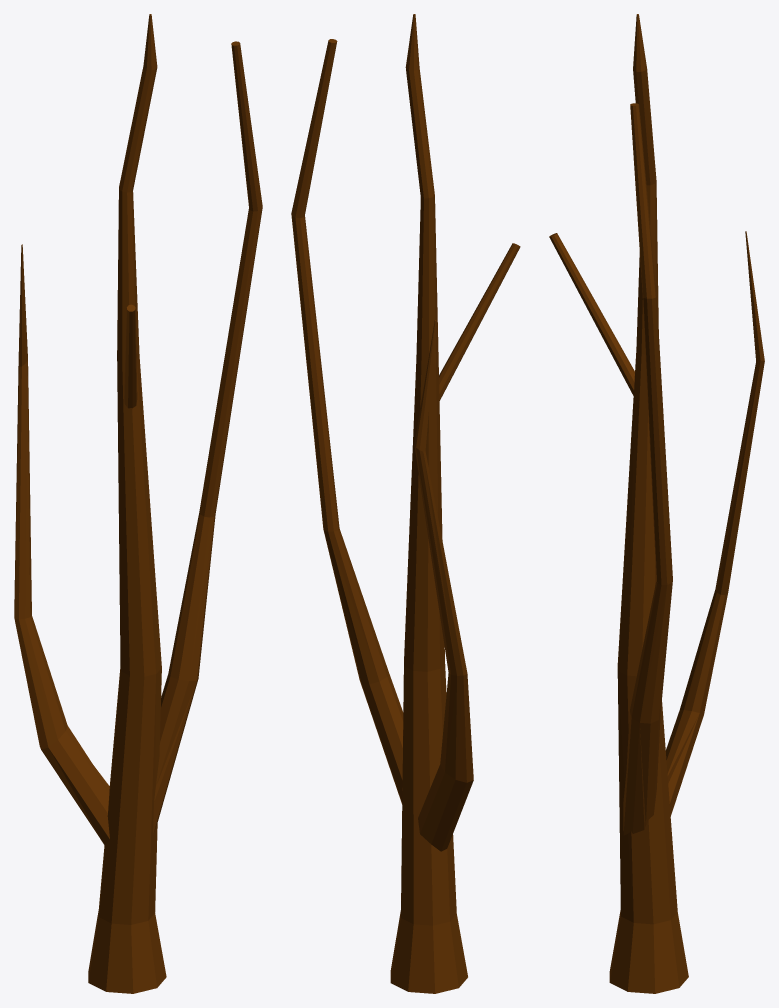
The model's file is Proto_Vegetation_Tree_Trunk_01.fbx.
3 renders of one model, left to right at view 1: azimuth 30°, elevation 25°; view 2: azimuth 150°, elevation 25°; view 3: azimuth 270°, elevation 25°, orthographic.
Visible parts, largest first — view 1: Proto_Vegetation_Tree_Trunk_01; view 2: Proto_Vegetation_Tree_Trunk_01; view 3: Proto_Vegetation_Tree_Trunk_01.
Boxes of the visible parts, x1,y1,x2,y2 form: Proto_Vegetation_Tree_Trunk_01: (14,14,262,993); Proto_Vegetation_Tree_Trunk_01: (291,14,520,993); Proto_Vegetation_Tree_Trunk_01: (549,14,764,993).
Bounding box in the file's own units: 0.8218 × 3.57 × 0.7176.
